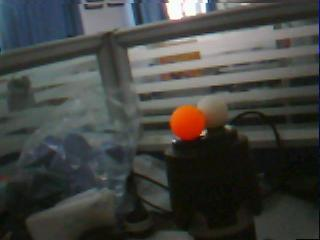oball: (169, 106, 205, 139)
